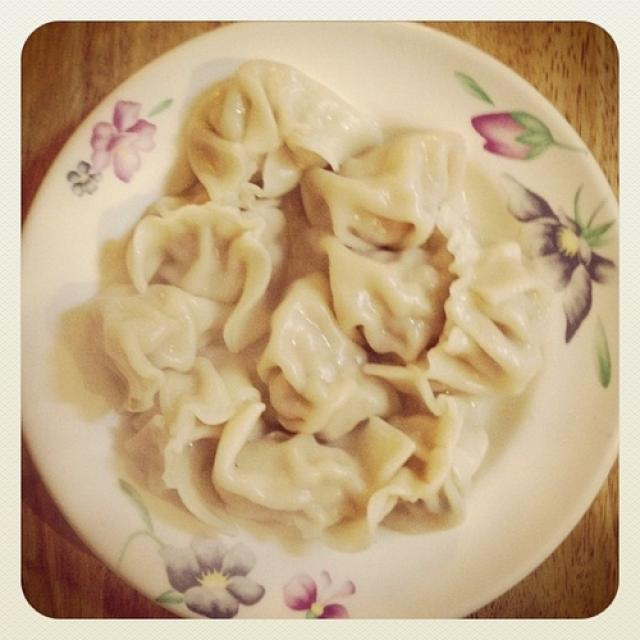带馅早点: (45, 55, 589, 604)
